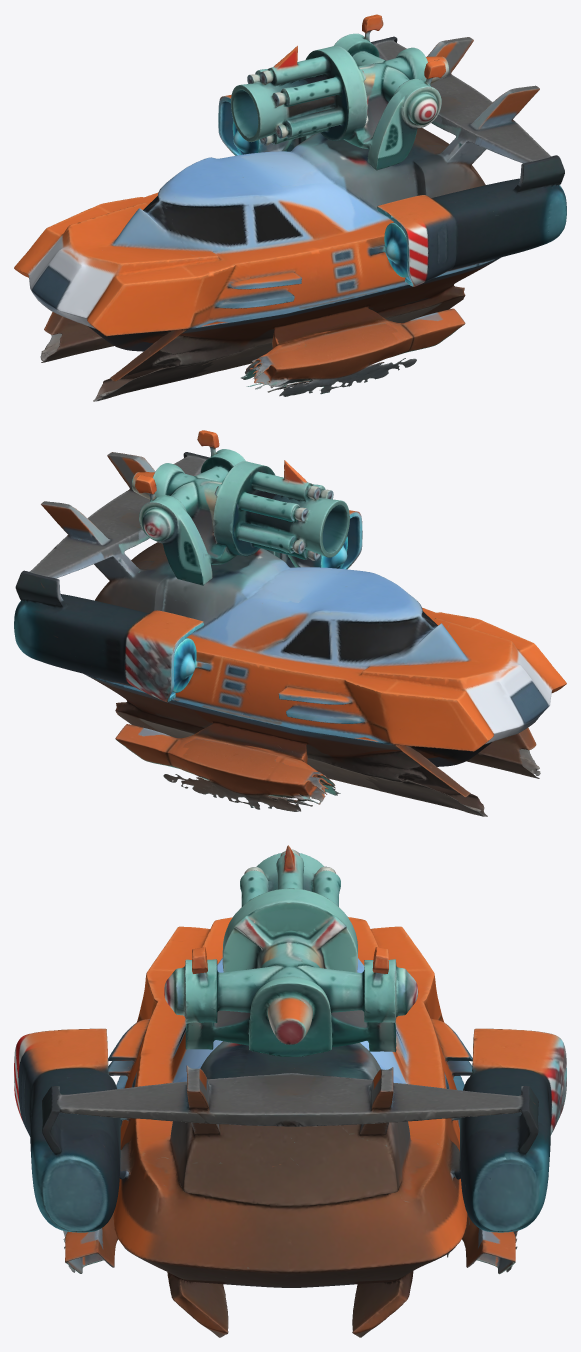
Rendered from Meshy_AI_Blazing_Wave_Runner_1013184138_texture.glb.
3 renders of one model, top to bottom at view 1: azimuth 30°, elevation 25°; view 2: azimuth 150°, elevation 25°; view 3: azimuth 270°, elevation 25°, orthographic. The views are drawn at different scales.
Size of the model in its own units: 1.9 by 1.12 by 1.36.
Materials: 1 (1 with a texture image).
